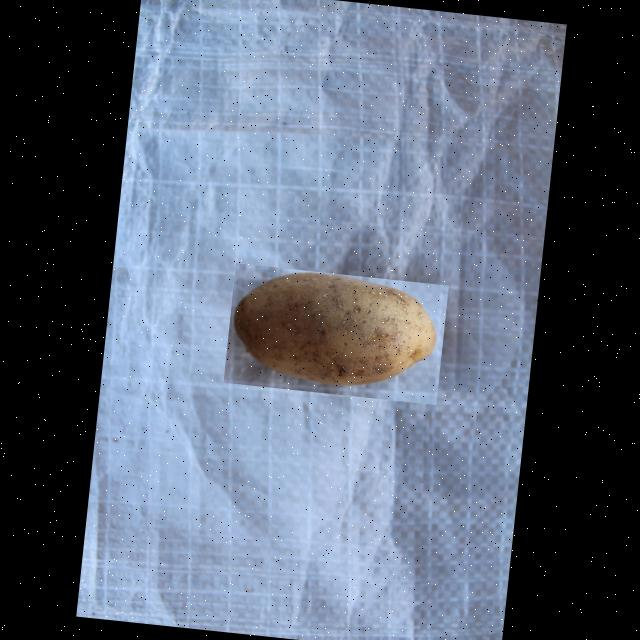Diseased-fungal potato: (222, 262, 447, 404)
